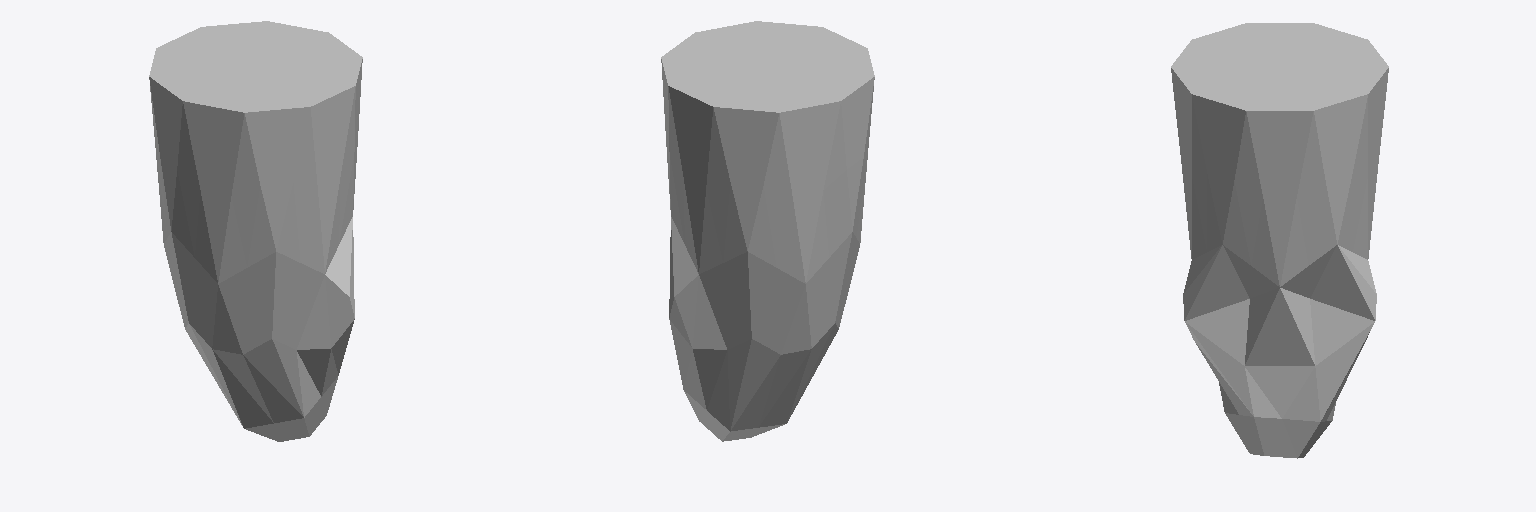
File: tiki_normal.obj
3 renders of one model, left to right at view 1: azimuth 30°, elevation 25°; view 2: azimuth 150°, elevation 25°; view 3: azimuth 270°, elevation 25°, orthographic.
Visible parts, largest first — view 1: Icosphere; view 2: Icosphere; view 3: Icosphere.
Boxes of the visible parts, x1,y1,x2,y2 form: Icosphere: [149, 21, 362, 441]; Icosphere: [661, 21, 874, 441]; Icosphere: [1171, 23, 1388, 458].
Bounding box in the file's own units: 1.23 × 2.47 × 1.29.